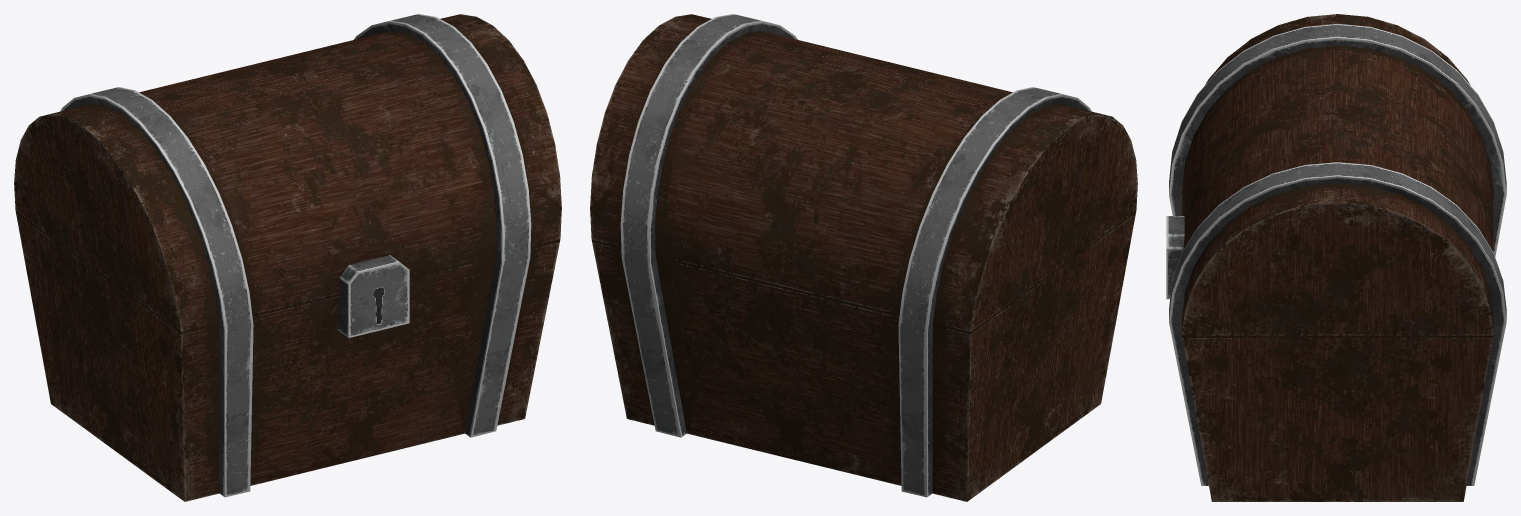
Rendered from free_low_poly_generic_treasure_chest-cd4b2d4f.glb.
The picture shows the model from 3 angles, left to right: view 1: azimuth 30°, elevation 25°; view 2: azimuth 150°, elevation 25°; view 3: azimuth 270°, elevation 25°; orthographic projection. The views are drawn at different scales.
Visible parts, largest first — view 1: chest_low__0; view 2: chest_low__0; view 3: chest_low__0.
Boxes of the visible parts, x1,y1,x2,y2 form: chest_low__0: (14, 14, 561, 501); chest_low__0: (590, 14, 1137, 501); chest_low__0: (1166, 14, 1506, 501).
Size of the model in its own units: 1.27 by 1.02 by 0.972.
Materials: 1 (1 with a texture image).
